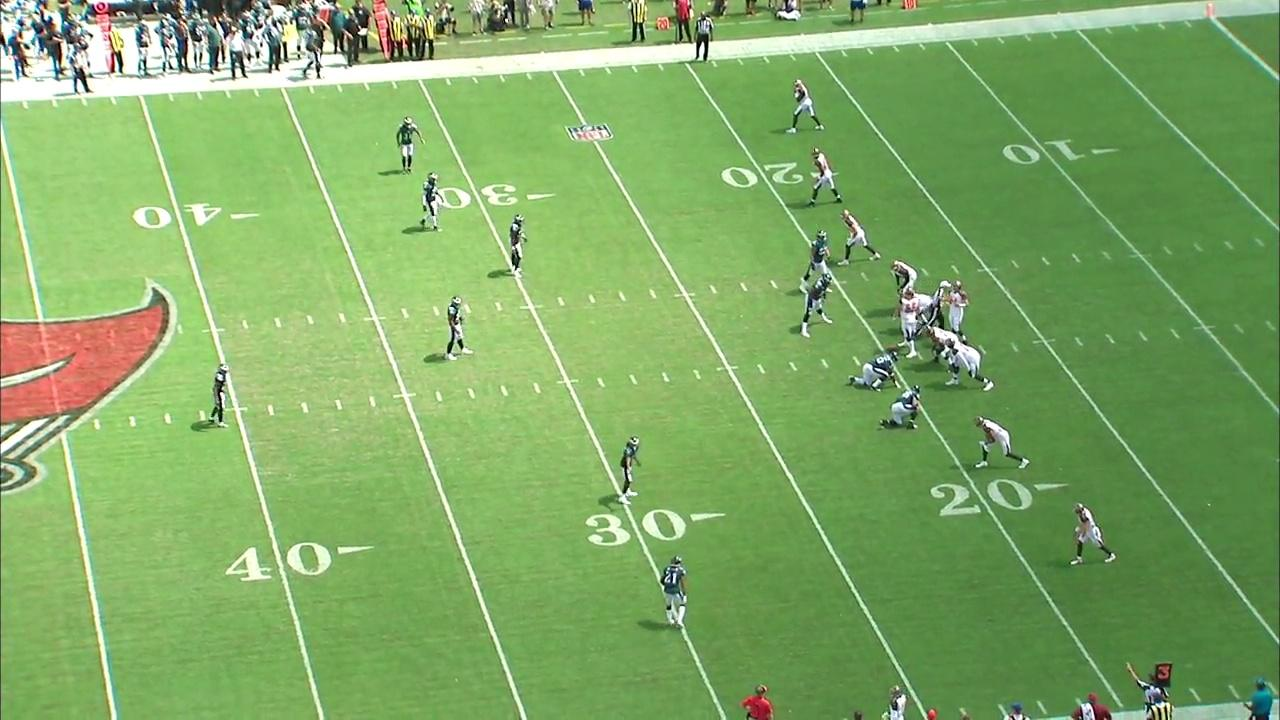player: (1068, 498, 1118, 570), (973, 415, 1031, 471), (944, 336, 998, 395), (835, 207, 883, 269), (846, 348, 902, 394), (798, 272, 835, 340), (877, 385, 927, 435), (891, 285, 924, 359), (805, 144, 843, 208), (798, 227, 832, 297), (442, 293, 476, 363), (785, 76, 825, 135), (660, 555, 691, 631), (613, 434, 644, 509), (391, 115, 427, 175), (941, 279, 972, 347), (923, 322, 962, 374), (895, 283, 934, 333), (210, 362, 236, 429), (506, 212, 531, 279), (419, 170, 444, 233), (887, 255, 919, 296)
ref: (1124, 657, 1173, 720), (916, 278, 952, 339), (66, 45, 97, 99), (690, 12, 718, 63)
